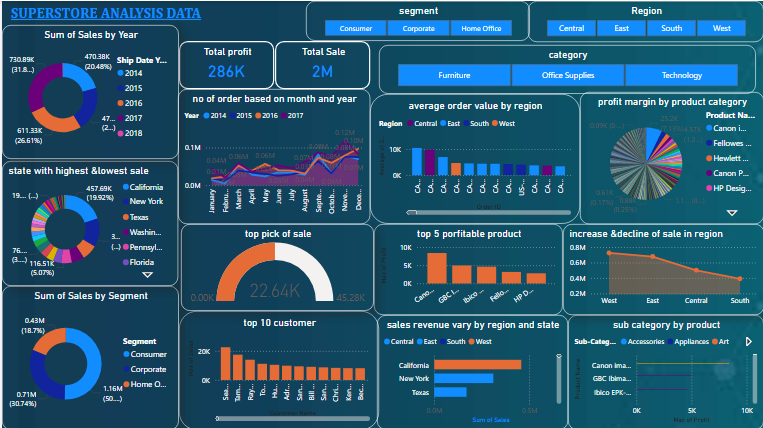

What the dashboard file says about the page in this screenshot:
{"tool":"powerbi","page":{"name":"Page 1","canvas":[1280,720],"ordinal":0},"visuals":[{"type":"textbox","box":[10.1,0,483.8,87.3],"z":0},{"type":"barChart","title":"sales revenue vary by region and state","fields":{"Category":["Sample - Superstore.State"],"Y":["Sum(Sample - Superstore.Sales)"],"Series":["Sample - Superstore.Region"]},"box":[629.9,527.5,320.8,193.2],"z":1000},{"type":"card","title":"Total profit","fields":{"Values":["Sum(Sample - Superstore.Profit)"]},"box":[297.3,67.2,159.6,80.6],"z":2000},{"type":"columnChart","title":"top 5 porfitable product","fields":{"Category":["Sample - Superstore.Product Name"],"Y":["Max(Sample - Superstore.Profit)"]},"box":[624.9,374.6,317.5,152.9],"z":3000},{"type":"pieChart","title":"profit margin by product category","fields":{"Category":["Sample - Superstore.Product Name","Sample - Superstore.Category"],"Y":["Sum(Sample - Superstore.Profit)"]},"box":[970.9,152.9,309.1,221.7],"z":4000},{"type":"clusteredBarChart","title":"sub category by product","fields":{"Category":["Sample - Superstore.Product Name"],"Y":["Max(Sample - Superstore.Profit)"],"Series":["Sample - Superstore.Sub-Category"]},"box":[950.8,527.5,329.2,193.2],"z":5000},{"type":"clusteredColumnChart","title":"top 10 customer","fields":{"Y":["Max(Sample - Superstore.Sales)"],"Category":["Sample - Superstore.Customer Name"]},"box":[297.3,520.7,336,199.9],"z":6000},{"type":"columnChart","title":" average order value by region","fields":{"Category":["Sample - Superstore.Order ID"],"Y":["Avg(Sample - Superstore.Sales)"],"Series":["Sample - Superstore.Region"]},"box":[618.2,156.2,352.8,218.4],"z":7000},{"type":"slicer","title":"Region","fields":{"Values":["Sample - Superstore.Region"]},"box":[883.6,0,396.4,68.9],"z":8000},{"type":"slicer","title":"category","fields":{"Values":["Sample - Superstore.Category"]},"box":[633.3,73.9,633.3,82.3],"z":9000},{"type":"slicer","title":"segment","fields":{"Values":["Sample - Superstore.Segment"]},"box":[510.7,0,376.3,67.2],"z":10000},{"type":"donutChart","fields":{"Y":["Sum(Sample - Superstore.Sales)"],"Category":["Sample - Superstore.Segment"]},"box":[0,478.7,297.3,241.9],"z":11000},{"type":"donutChart","title":"state with highest &lowest sale","fields":{"Category":["Sample - Superstore.State"],"Y":["Sum(Sample - Superstore.Sales)"]},"box":[0,268.8,295.6,210],"z":12000},{"type":"donutChart","fields":{"Category":["Sample - Superstore.Ship Date.Variation.Date Hierarchy.Year"],"Y":["Sum(Sample - Superstore.Sales)"]},"box":[0,40.3,297.3,225.1],"z":13000},{"type":"gauge","title":"top pick of sale","fields":{"Y":["Max(Sample - Superstore.Sales)"]},"box":[300.7,374.6,324.2,146.1],"z":14000},{"type":"lineChart","title":"no of order based on month and year","fields":{"Category":["Sample - Superstore.Order Date.Variation.Date Hierarchy.Year","Sample - Superstore.Order Date.Variation.Date Hierarchy.Month"],"Y":["Sum(Sample - Superstore.Sales)"],"Series":["Sample - Superstore.Order Date.Variation.Date Hierarchy.Year"]},"box":[295.6,147.8,322.5,226.8],"z":15000},{"type":"lineChart","title":"increase &decline of sale in region","fields":{"Category":["Sample - Superstore.Region"],"Y":["Sum(Sample - Superstore.Sales)"]},"box":[942.4,374.6,337.6,152.9],"z":16000},{"type":"card","title":"Total Sale","fields":{"Values":["Sum(Sample - Superstore.Sales)"]},"box":[458.6,67.2,159.6,80.6],"z":17000}]}

Visuals, with their boxes in screenshot pixels (x1, y1, x2, y2), scaled from the page's 1280x720 canvas onto the 763x428 screenshot:
textbox: rect(6, 0, 294, 52)
"sales revenue vary by region and state" barChart: rect(375, 314, 567, 427)
"Total profit" card: rect(177, 40, 272, 88)
"top 5 porfitable product" columnChart: rect(372, 223, 562, 314)
"profit margin by product category" pieChart: rect(579, 91, 762, 223)
"sub category by product" clusteredBarChart: rect(567, 314, 762, 427)
"top 10 customer" clusteredColumnChart: rect(177, 310, 378, 427)
" average order value by region" columnChart: rect(369, 93, 579, 223)
"Region" slicer: rect(527, 0, 762, 41)
"category" slicer: rect(378, 44, 755, 93)
"segment" slicer: rect(304, 0, 529, 40)
donutChart - Sum(Sample - Superstore.Sales) x Sample - Superstore.Segment: rect(0, 285, 177, 427)
"state with highest &lowest sale" donutChart: rect(0, 160, 176, 285)
donutChart - Sample - Superstore.Ship Date.Variation.Date Hierarchy.Year x Sum(Sample - Superstore.Sales): rect(0, 24, 177, 158)
"top pick of sale" gauge: rect(179, 223, 372, 310)
"no of order based on month and year" lineChart: rect(176, 88, 368, 223)
"increase &decline of sale in region" lineChart: rect(562, 223, 762, 314)
"Total Sale" card: rect(273, 40, 369, 88)
